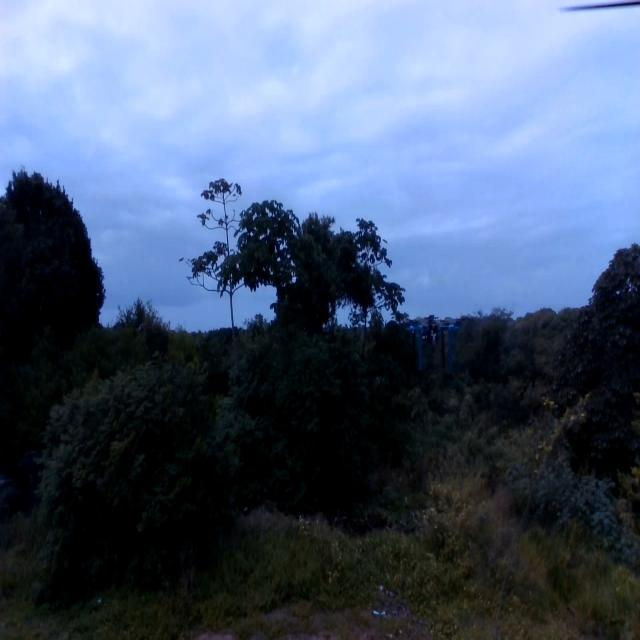-uav-: (403, 312, 464, 384)
